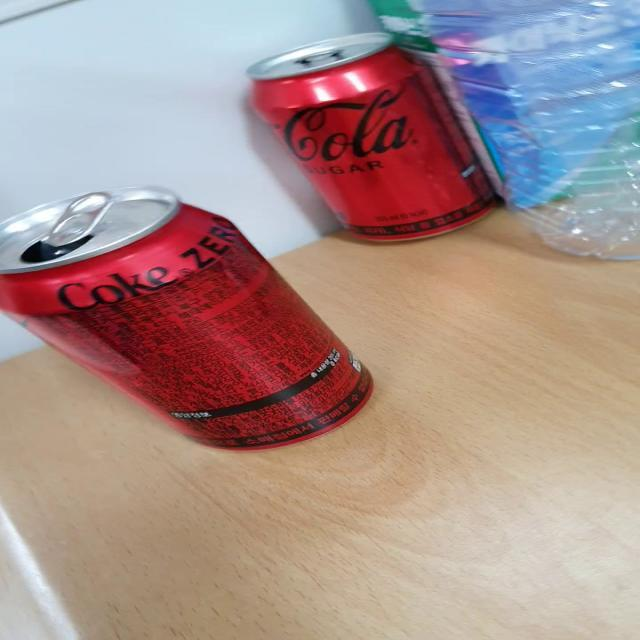coca-cola: (6, 182, 398, 462), (236, 26, 516, 244)
